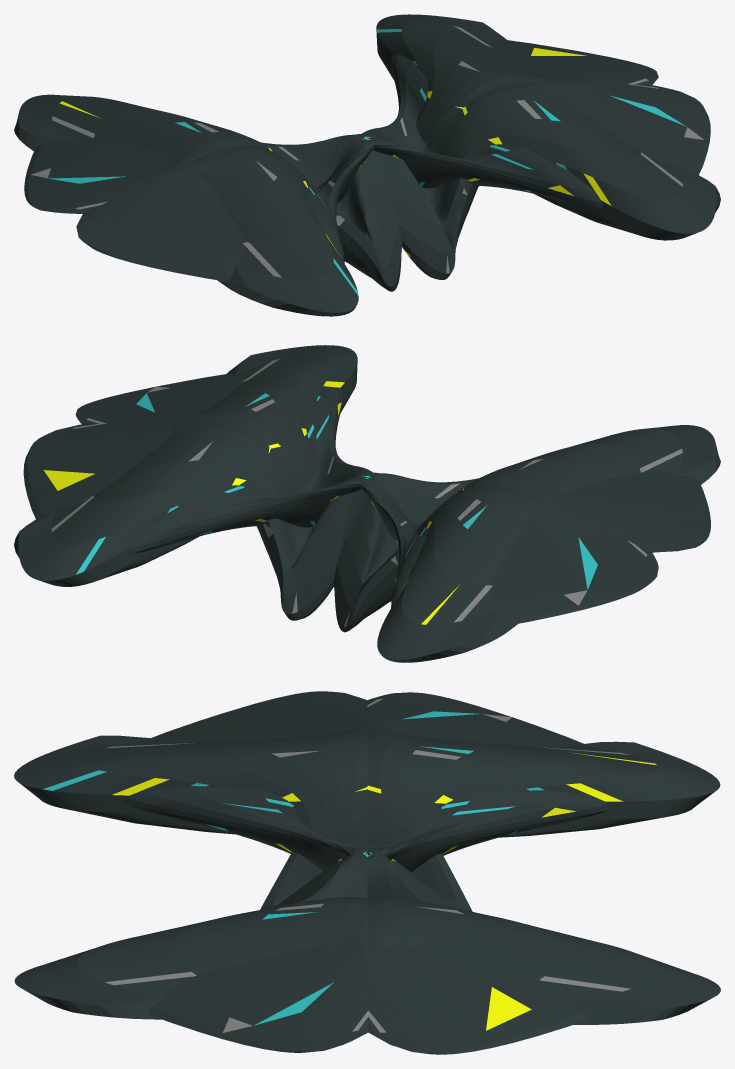
File: Enemy_2.fbx
The picture shows the model from 3 angles, top to bottom: view 1: azimuth 30°, elevation 25°; view 2: azimuth 150°, elevation 25°; view 3: azimuth 270°, elevation 25°; orthographic projection. The views are drawn at different scales.
Visible parts, largest first — view 1: Enemy2; view 2: Enemy2; view 3: Enemy2.
Part boxes in pixels (box(x1,y1,x2,y2)): Enemy2: box(14, 14, 720, 316); Enemy2: box(14, 345, 720, 662); Enemy2: box(14, 691, 720, 1054).
Bounding box in the file's own units: 1934 × 414 × 1665.
